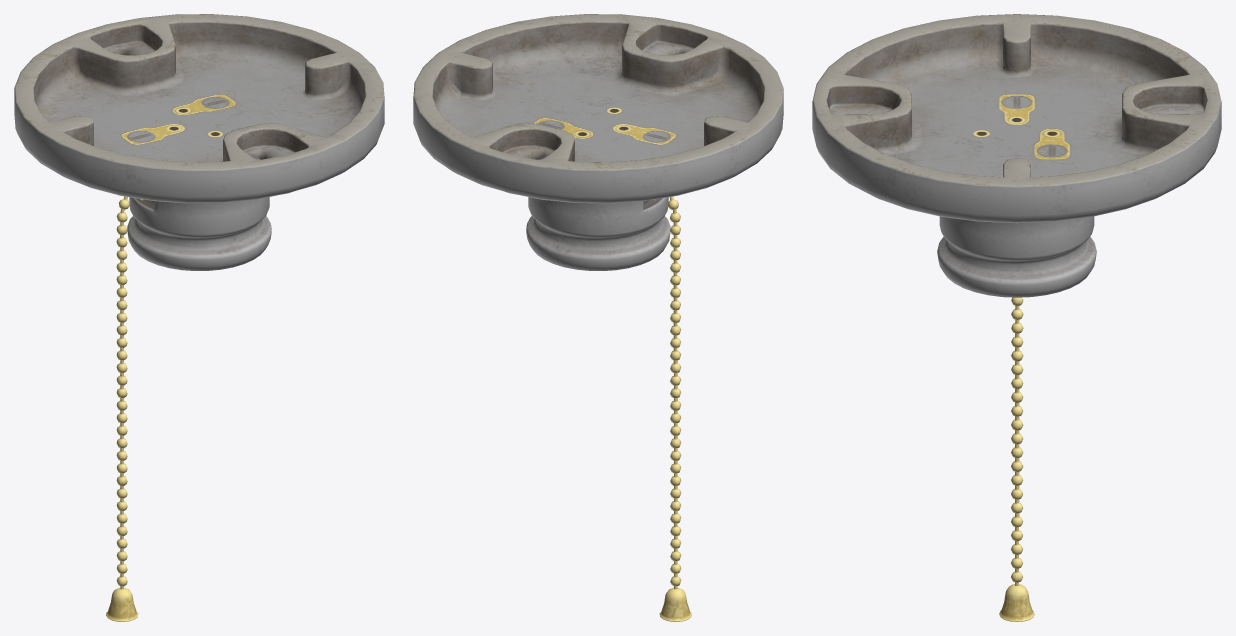
Rendered from pull_chain_light_socket_2k.fbx.
The picture shows the model from 3 angles, left to right: view 1: azimuth 30°, elevation 25°; view 2: azimuth 150°, elevation 25°; view 3: azimuth 270°, elevation 25°; orthographic projection. The views are drawn at different scales.
Visible parts, largest first — view 1: pull_chain_light_socket, pull_chain_light_socket_chain; view 2: pull_chain_light_socket, pull_chain_light_socket_chain; view 3: pull_chain_light_socket, pull_chain_light_socket_chain.
Boxes of the visible parts, bbox=[...] form: pull_chain_light_socket: bbox=[14, 14, 384, 270]; pull_chain_light_socket_chain: bbox=[106, 196, 138, 621]; pull_chain_light_socket: bbox=[413, 14, 783, 270]; pull_chain_light_socket_chain: bbox=[659, 196, 691, 621]; pull_chain_light_socket: bbox=[812, 14, 1221, 297]; pull_chain_light_socket_chain: bbox=[999, 297, 1034, 621].
Bounding box in the file's own units: 11.03 × 16.54 × 11.03.
